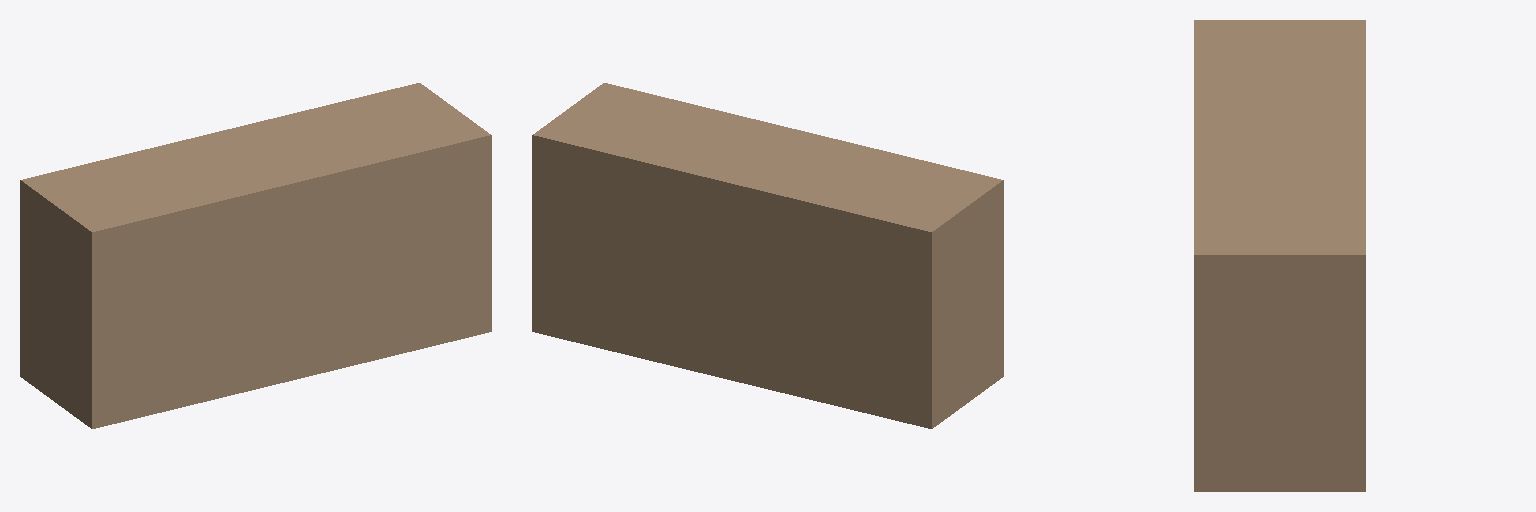
robot.urdf — box.urdf:
<?xml version="1.0" ?>
<robot name="box.urdf">
  <link name="baseLink">
    <contact>
      <lateral_friction value="1.0"/>
      <rolling_friction value="0.0001"/>
      <inertia_scaling value="3.0"/>
    </contact>
    <inertial>
      <origin rpy="0 0 0" xyz="0 0 0"/>
       <mass value="0.1"/>
       <inertia ixx="1" ixy="0" ixz="0" iyy="1" iyz="0" izz="1"/>
    </inertial>
    <visual>
      <origin rpy="0 0 0" xyz="0 0 0"/>
      <geometry>
        <!-- <box size="0.505 0.157 0.23800000000000002"/> -->
        <mesh filename="box/box.obj" scale="0.505 0.157 0.23800000000000002"/>
      </geometry>
      <material name="white">
        <color rgba="0.7 0.6 0.5 1"/>
      </material>
    </visual>
    <collision>
      <origin rpy="0 0 0" xyz="0 0 0"/>
      <geometry>
        <mesh filename="box/box.obj" scale="0.505 0.157 0.23800000000000002"/>
	 	    <!-- <box size="0.505 0.157 0.23800000000000002"/> -->
      </geometry>
    </collision>
  </link>
</robot>

--- What the picture shows (computed from the rendered views, not written in the file) ---
3 views of the same robot in one strip: view 1: azimuth 30°, elevation 25°; view 2: azimuth 150°, elevation 25°; view 3: azimuth 270°, elevation 25° (orthographic).
Model box.urdf with 1 links and 0 joints (none), rooted at baseLink, posed all joints at 0.
Visible links, largest first — view 1: baseLink; view 2: baseLink; view 3: baseLink.
Link boxes in pixels (x1,y1,x2,y2): baseLink: (20, 83, 491, 428); baseLink: (532, 83, 1003, 428); baseLink: (1194, 20, 1365, 491).
Size in the robot's own frame: 0.505 by 0.157 by 0.238 metres.
1 mesh visuals loaded from 1 distinct referenced files (1 OBJ).
